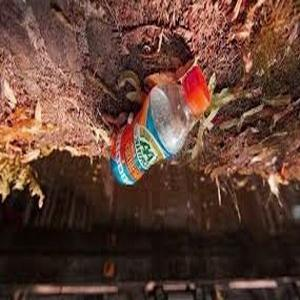Plastic: (109, 66, 210, 186)
